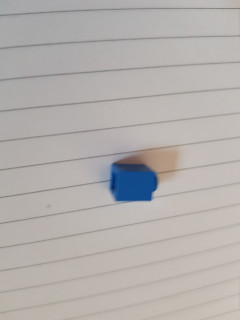1x1 blue: (108, 161, 159, 203)
